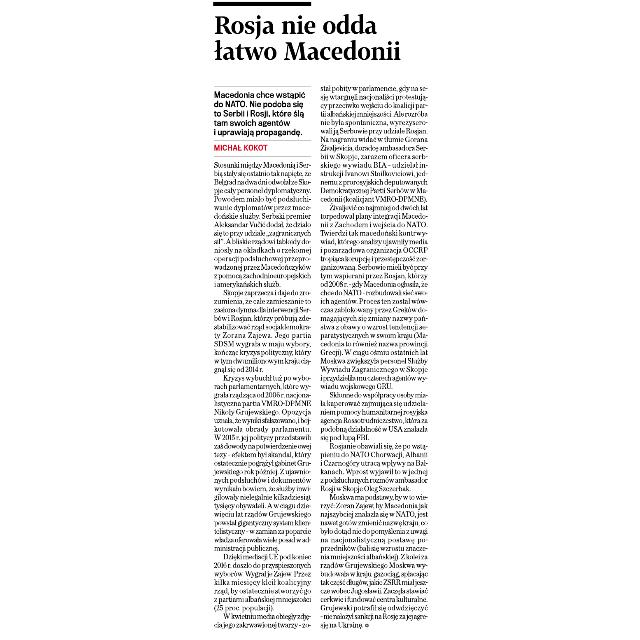author: (212, 142, 272, 152)
body: (317, 83, 428, 631), (210, 158, 312, 632)
lead: (210, 90, 306, 138)
title: (212, 10, 406, 64)
